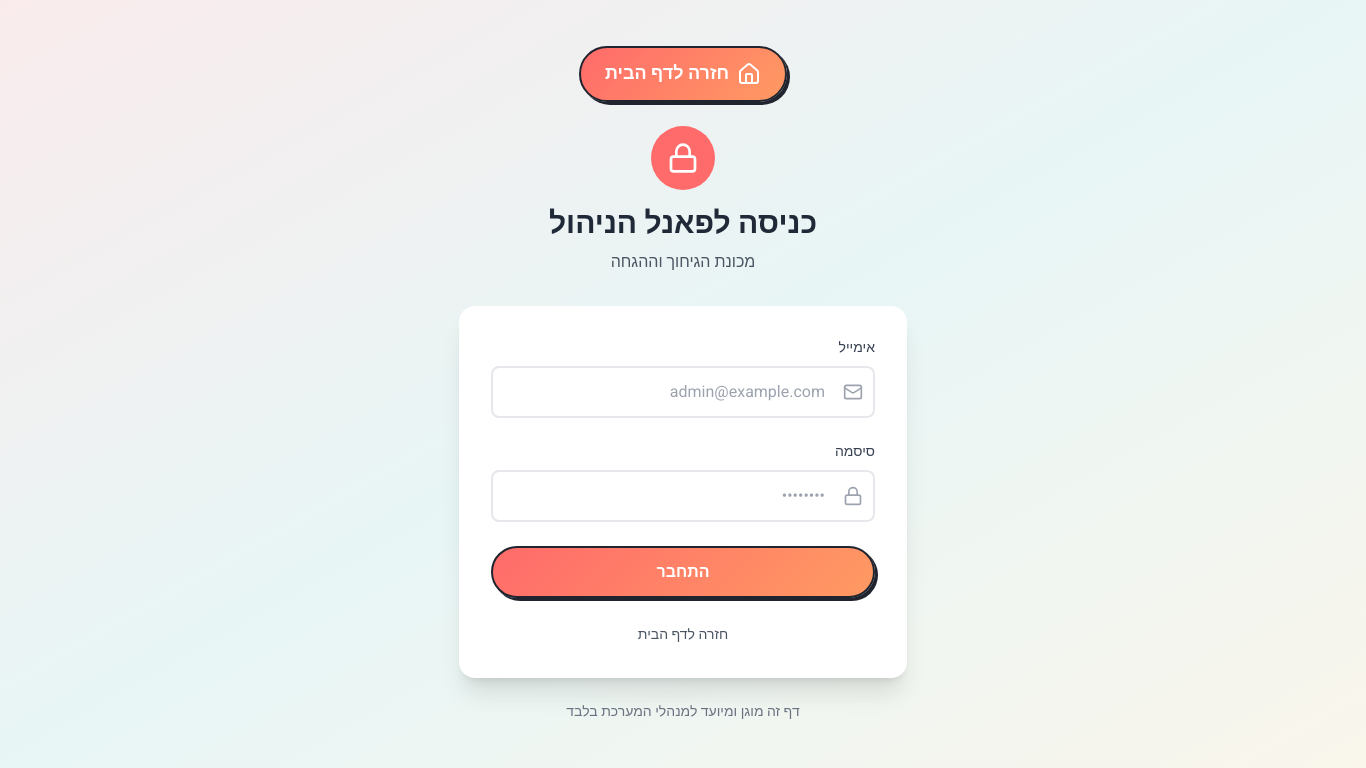
it: Admin Authentication Flow › shows loading state during login
Type "admin@test.com" into the field labelled "אימייל" at (683, 392), box [491,366,875,418]
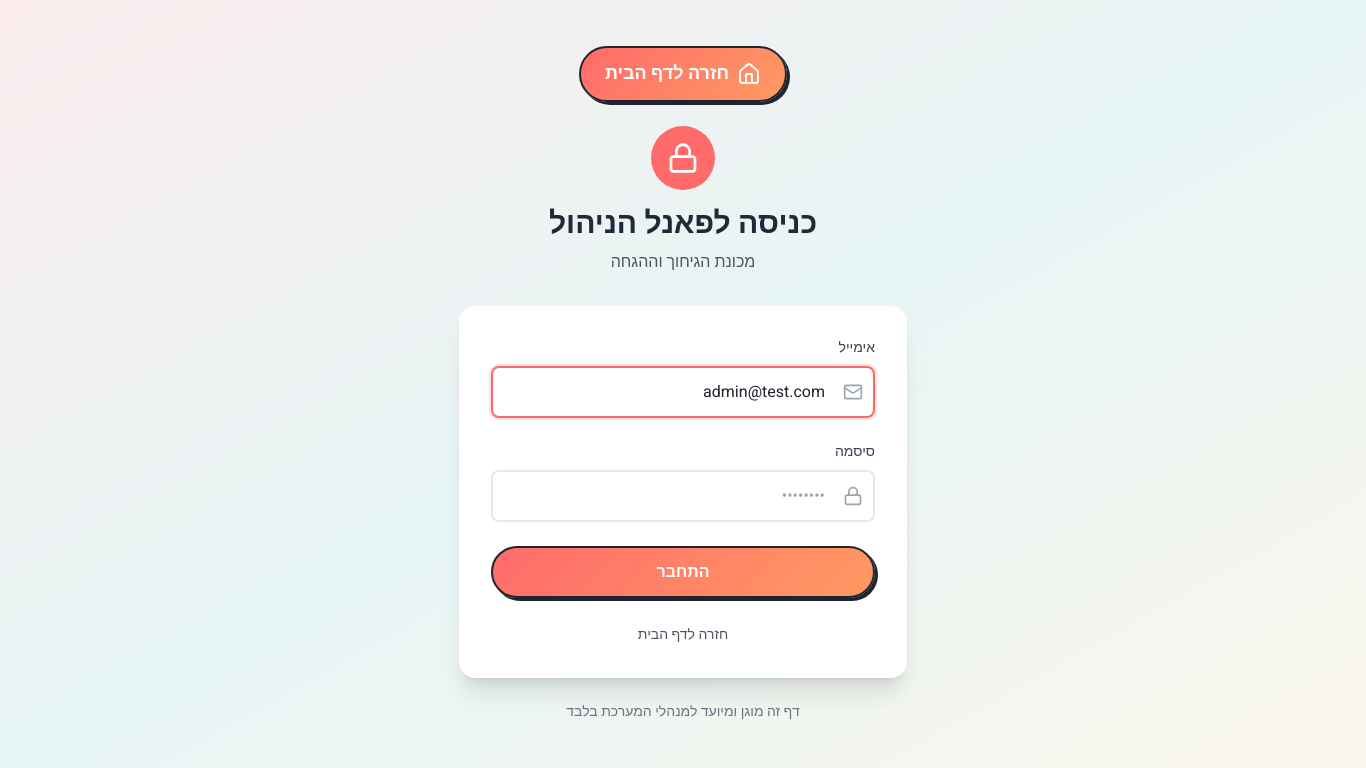
Type "password123" into the password field labelled "סיסמה" at (683, 496), box [491,470,875,522]
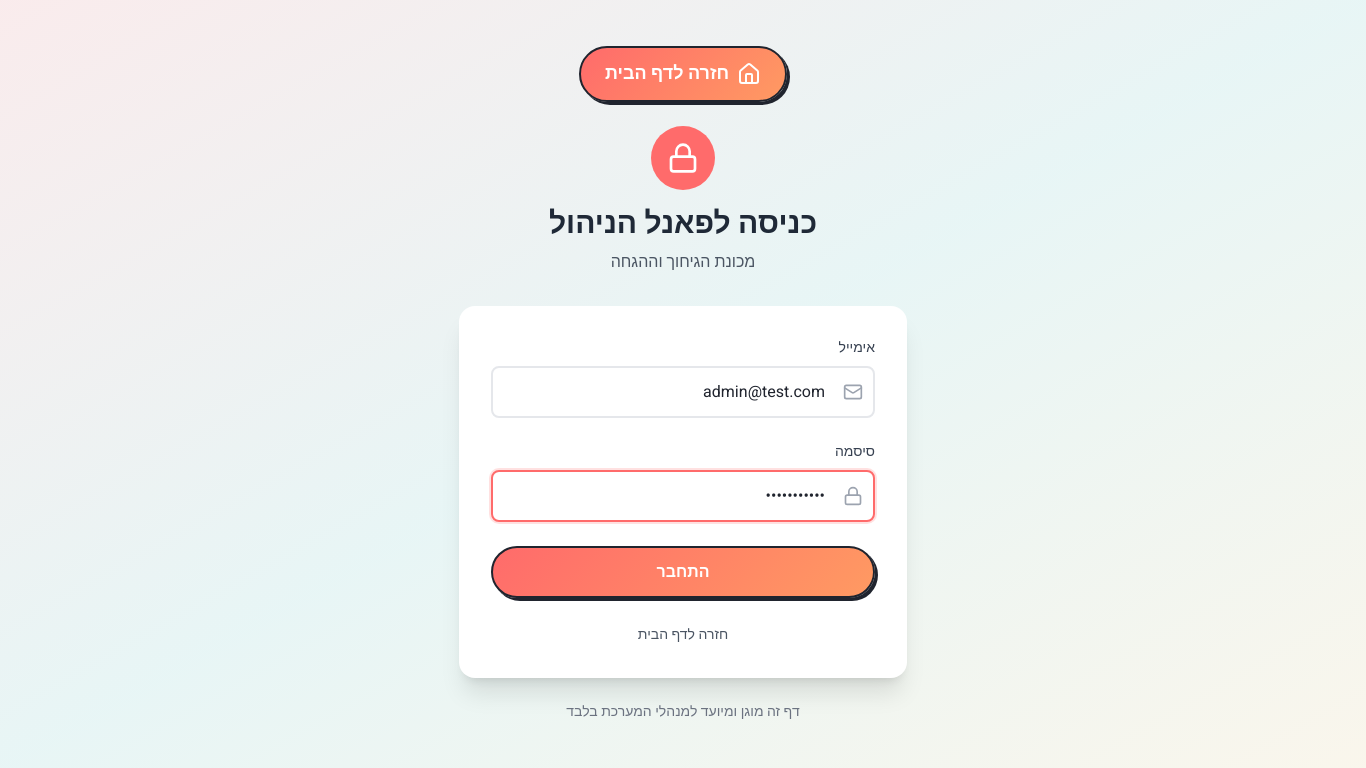
Click the button "התחבר" at (683, 572), box [491,546,875,598]
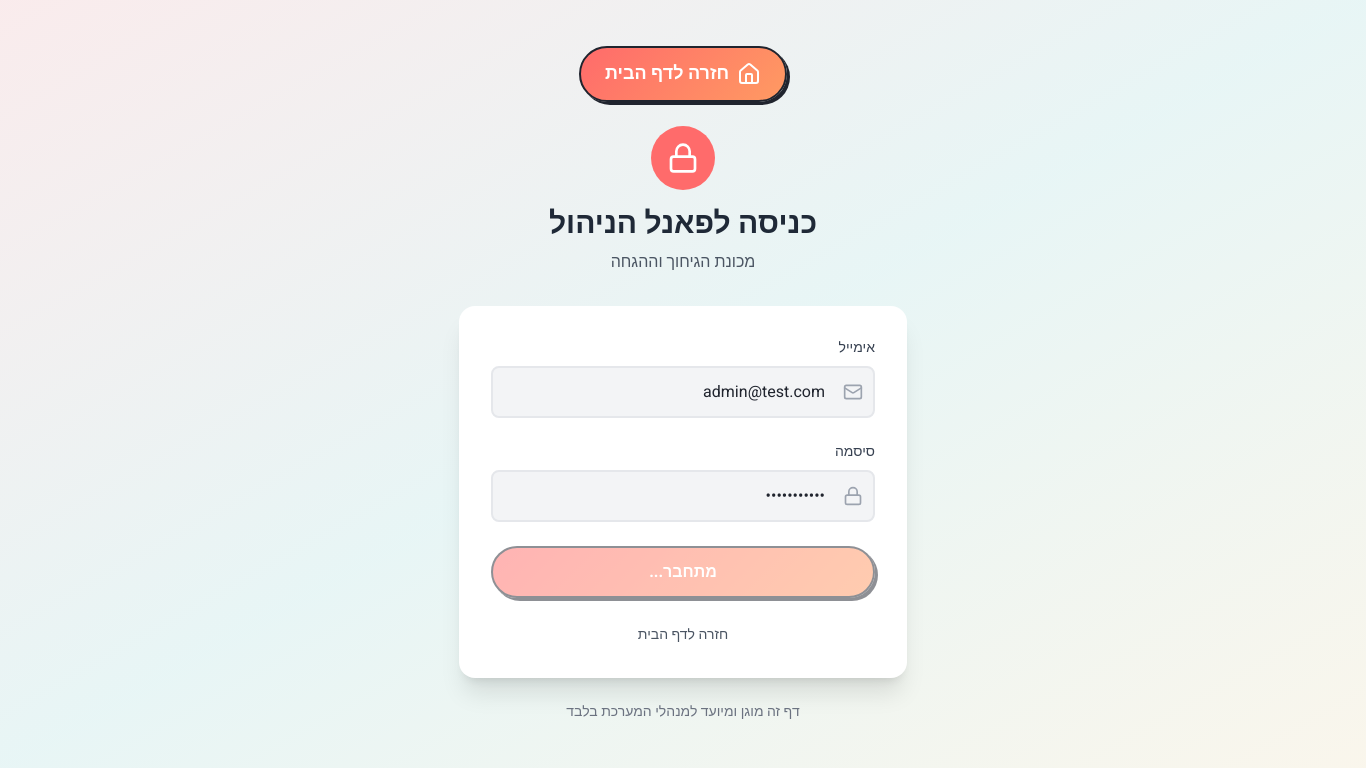
Result: the button "מתחבר..." is disabled at [491,546,875,598]
